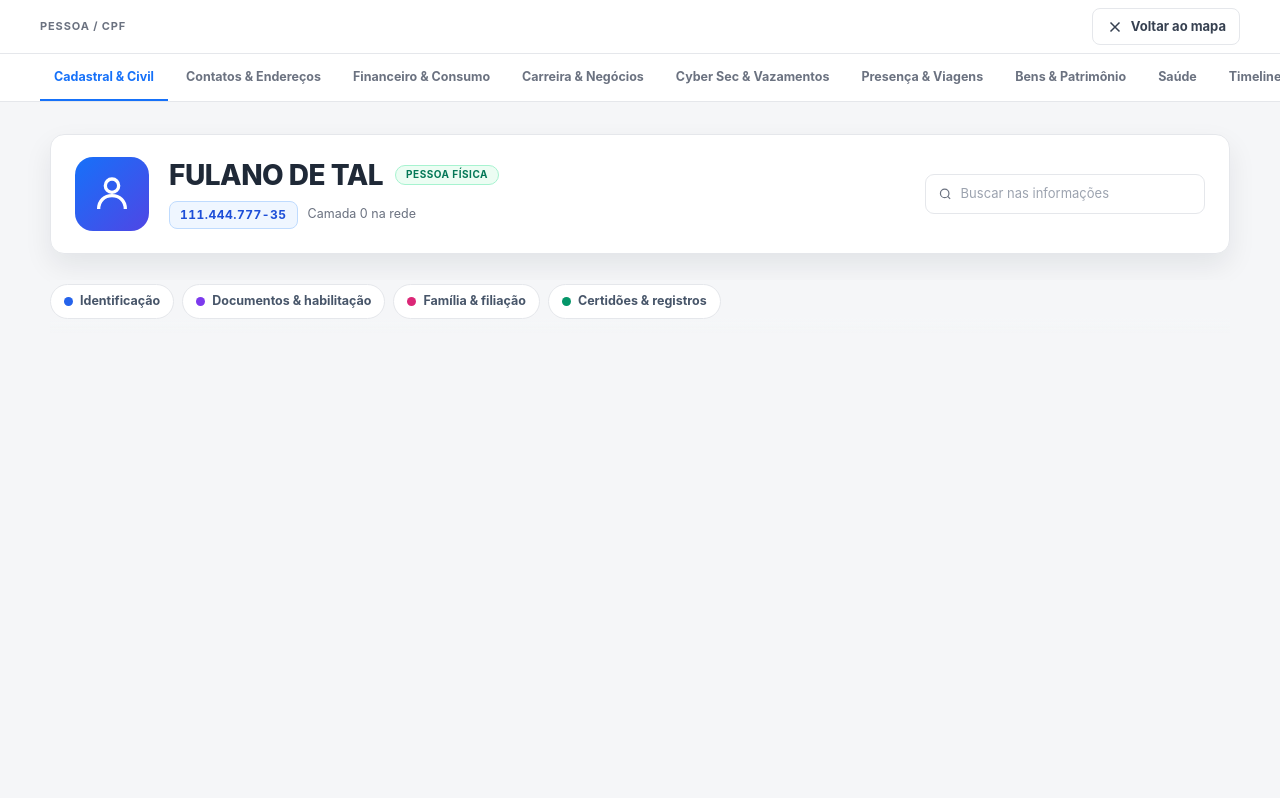
Test: EntityDetail — aba "Presença & Viagens" (pegada digital) › monta a pegada digital com resumo, Local Guide e situação migratória
This screenshot has width=1280, height=798.
Step 1. Click the button "Presença & Viagens" → (922, 77), box [847,54,997,101]
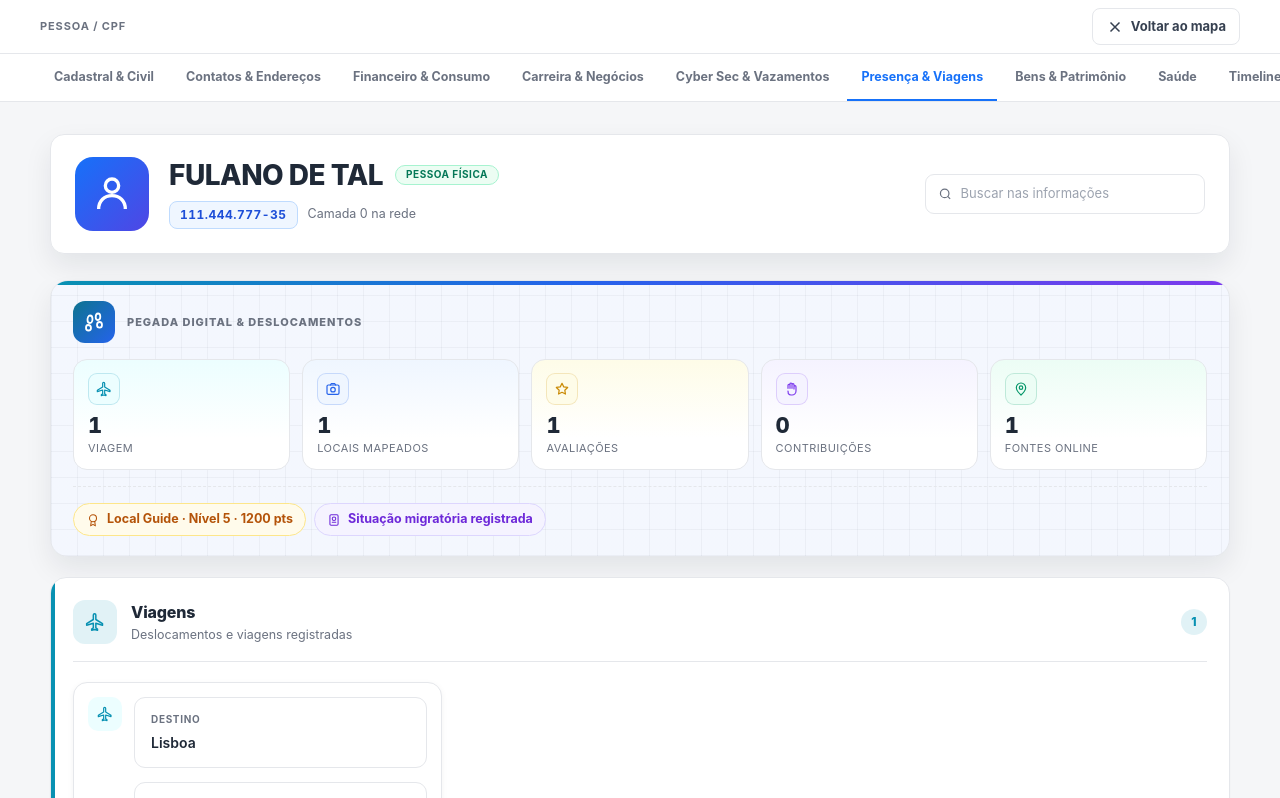
Expected: the text "Pegada digital & deslocamentos" is shown, [127,314,362,330]
Expected: the text "Local Guide · Nível 5 · 1200 pts" is shown, [73,503,306,536]
Expected: the text "Situação migratória registrada" is shown, [314,503,546,536]
